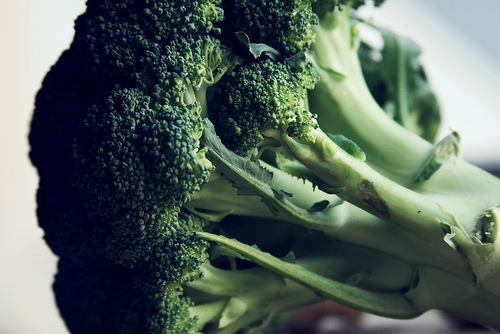broccoli: (26, 0, 499, 333)
